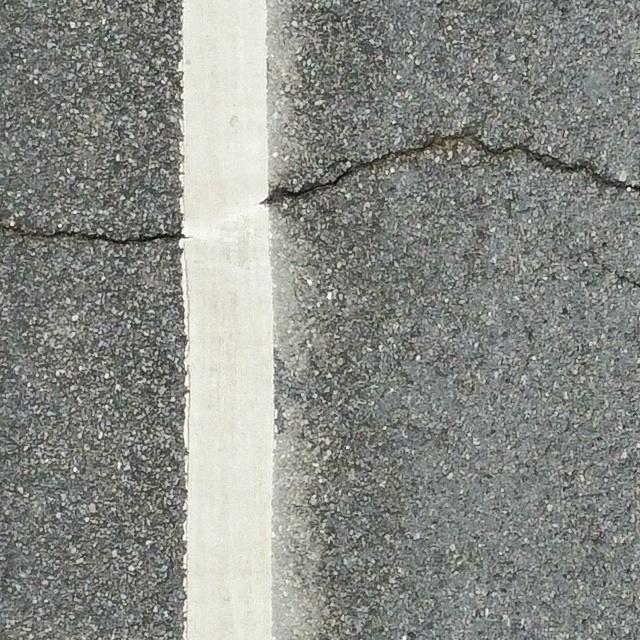TransverseCrack: (260, 120, 640, 206), (3, 223, 193, 245)
